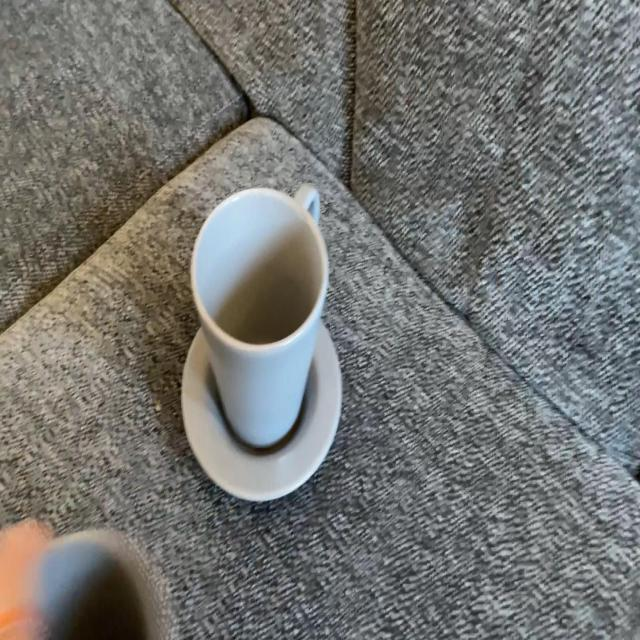cup: (186, 182, 342, 502)
